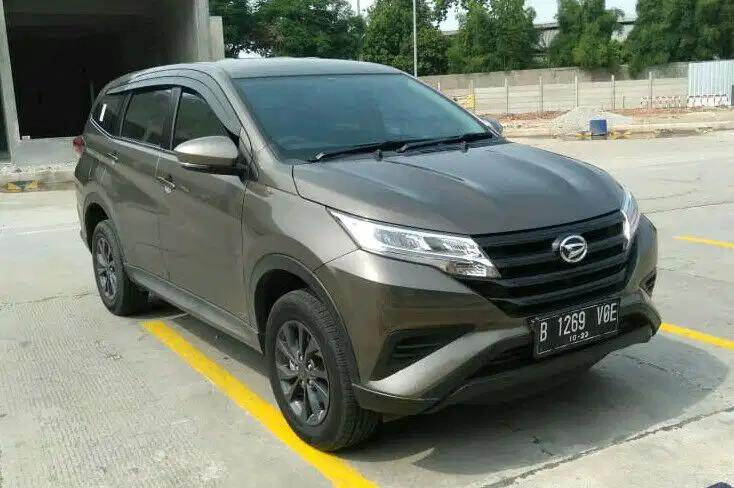plate: (534, 298, 621, 357)
